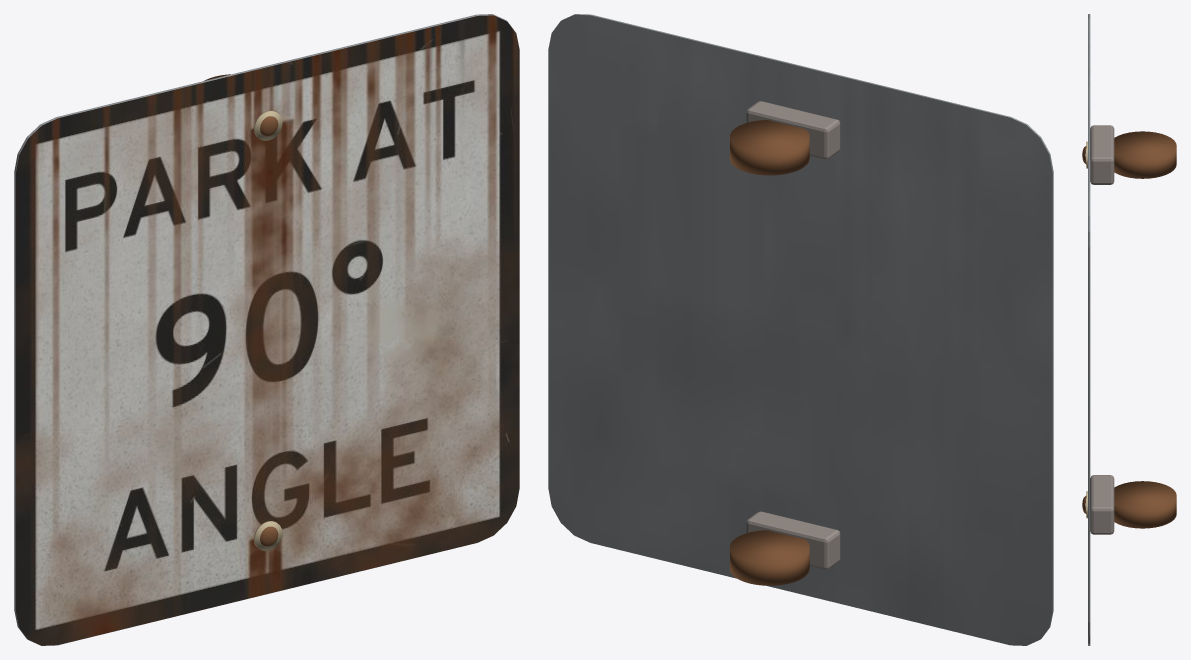
The model's file is parkingAngle-v1-rusty.glb.
The picture shows the model from 3 angles, left to right: view 1: azimuth 30°, elevation 25°; view 2: azimuth 150°, elevation 25°; view 3: azimuth 270°, elevation 25°; orthographic projection. The views are drawn at different scales.
Parts seen in each view (by area): view 1: parkingAngle-v1-rusty; view 2: parkingAngle-v1-rusty; view 3: parkingAngle-v1-rusty.
Part boxes in pixels (x1,y1,x2,y2): parkingAngle-v1-rusty: (14, 14, 519, 645); parkingAngle-v1-rusty: (548, 14, 1053, 645); parkingAngle-v1-rusty: (1082, 14, 1176, 645).
Bounding box in the file's own units: 0.4572 × 0.4572 × 0.0871.
1 material, 1 textured.
